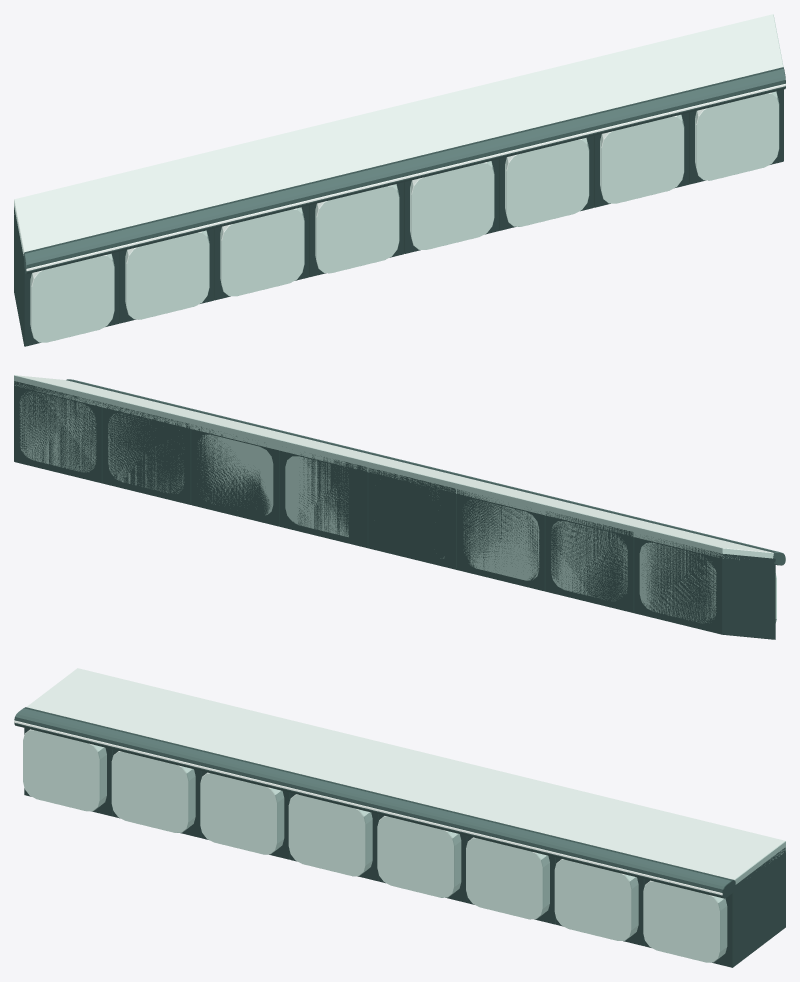
The model's file is Terrain_TopRun8.gltf.
3 views of the same model, one above another, from view 1: azimuth 30°, elevation 25°; view 2: azimuth 150°, elevation 25°; view 3: azimuth 330°, elevation 25° (orthographic). The views are drawn at different scales.
Visible parts, largest first — view 1: Terrain_TopRun8_baked; view 2: Terrain_TopRun8_baked; view 3: Terrain_TopRun8_baked.
Part boxes in pixels (x1=…): Terrain_TopRun8_baked: x1=14, y1=14, x2=785, y2=346; Terrain_TopRun8_baked: x1=14, y1=375, x2=785, y2=639; Terrain_TopRun8_baked: x1=14, y1=668, x2=785, y2=967.
Bounding box in the file's own units: 8.29 × 1.18 × 0.74.
